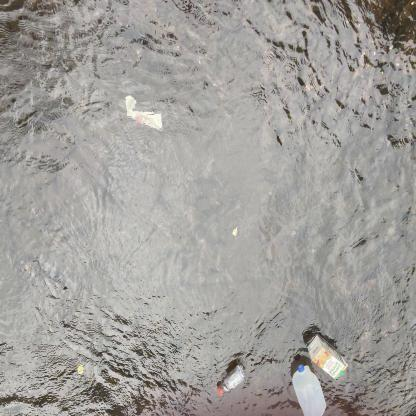Plastic: (288, 360, 330, 416), (119, 91, 166, 135), (212, 361, 247, 401)
